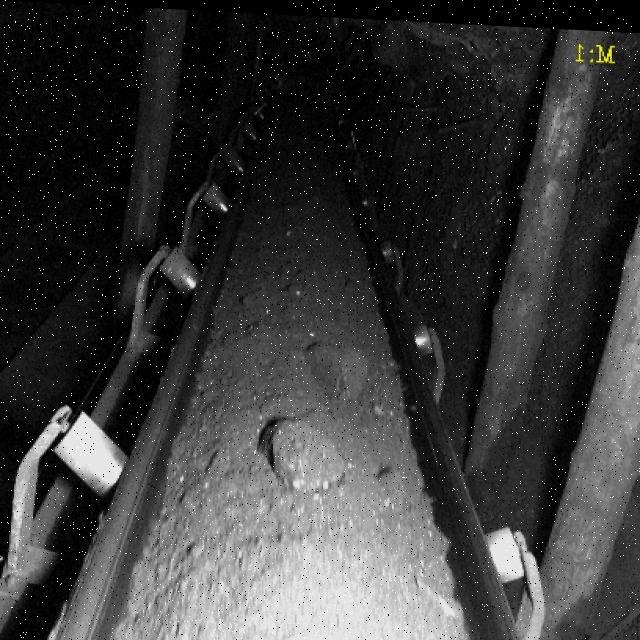large_sized_coal: (262, 414, 342, 489), (311, 339, 368, 400)
